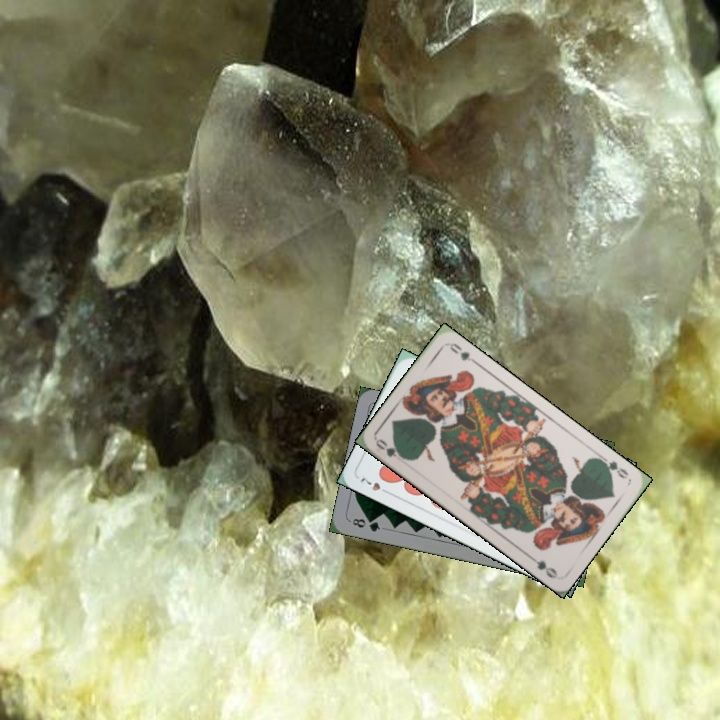G8: (348, 514, 383, 534)
GO: (372, 435, 410, 462), (597, 452, 631, 482)
H7: (356, 473, 393, 497)
